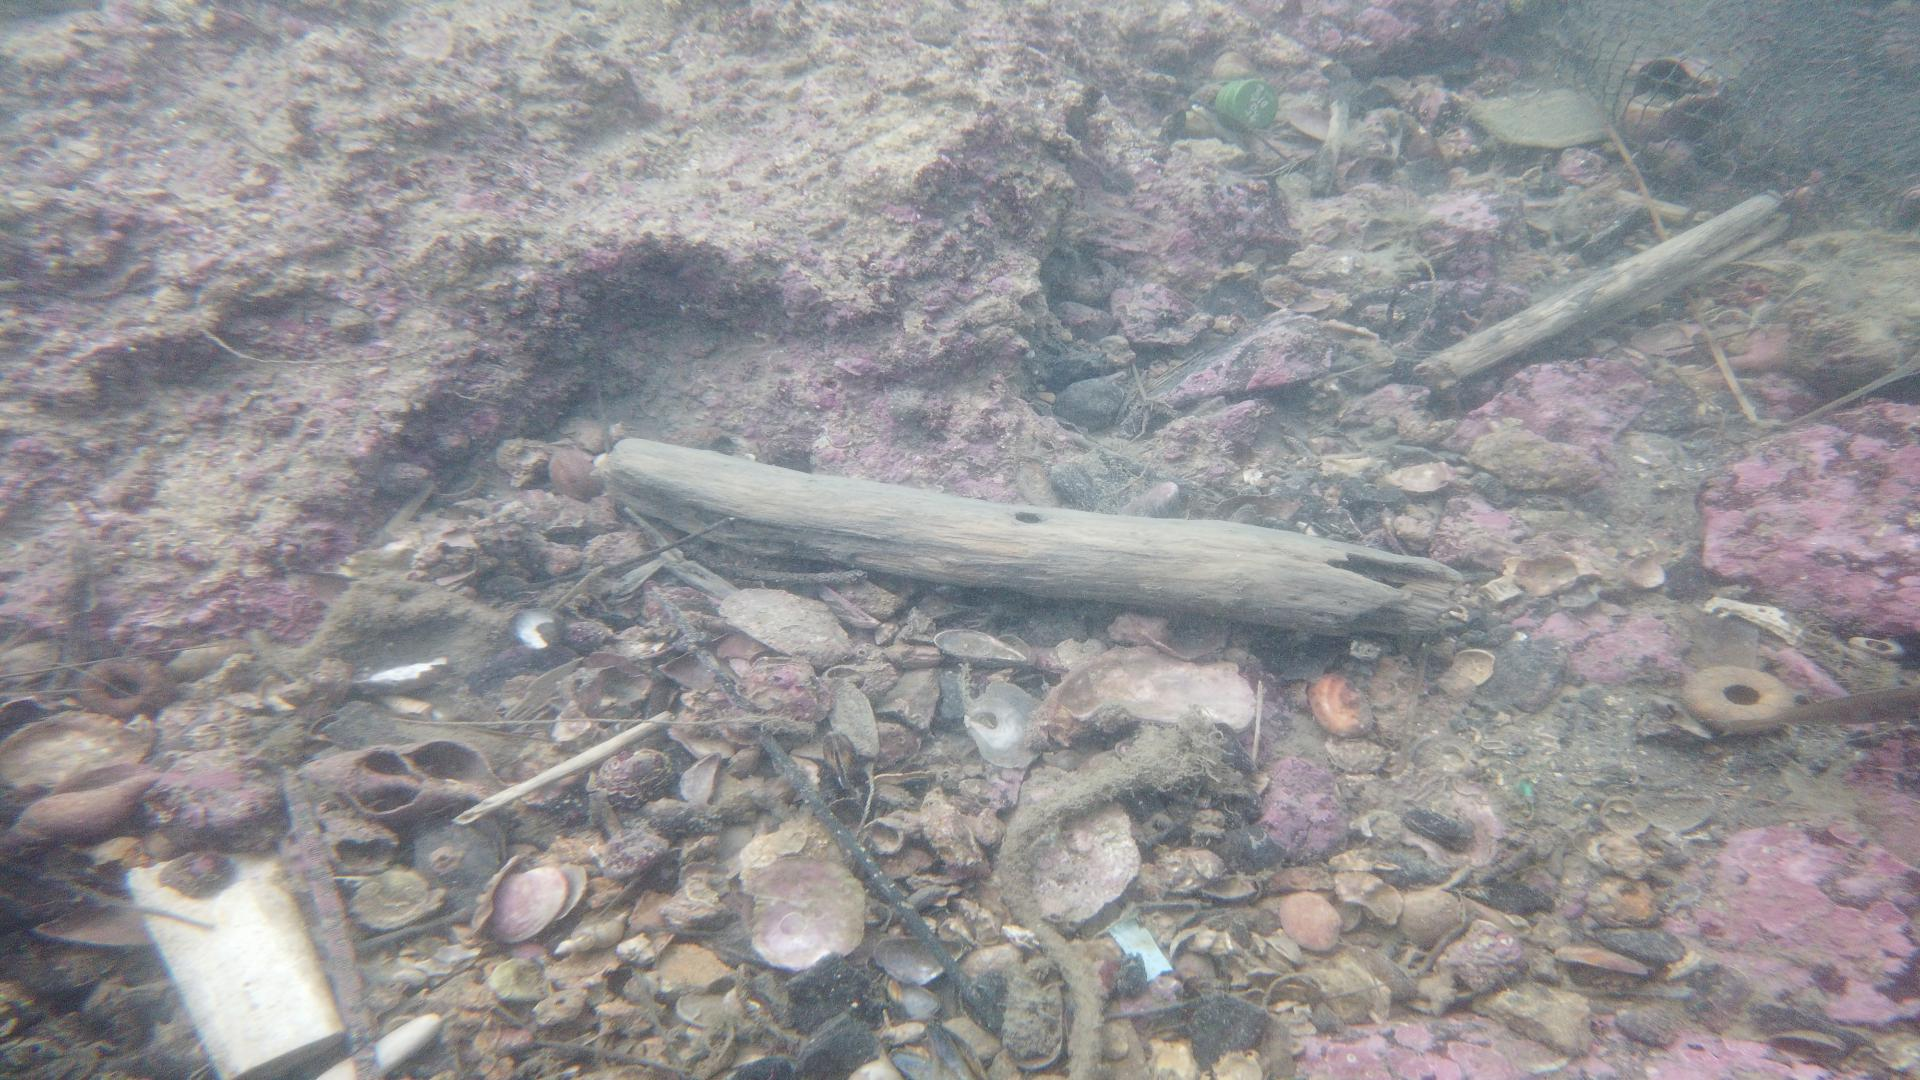fish net: (1549, 0, 1920, 208)
rope: (992, 750, 1142, 1080)
wood: (607, 434, 1465, 638), (1410, 186, 1787, 386)
